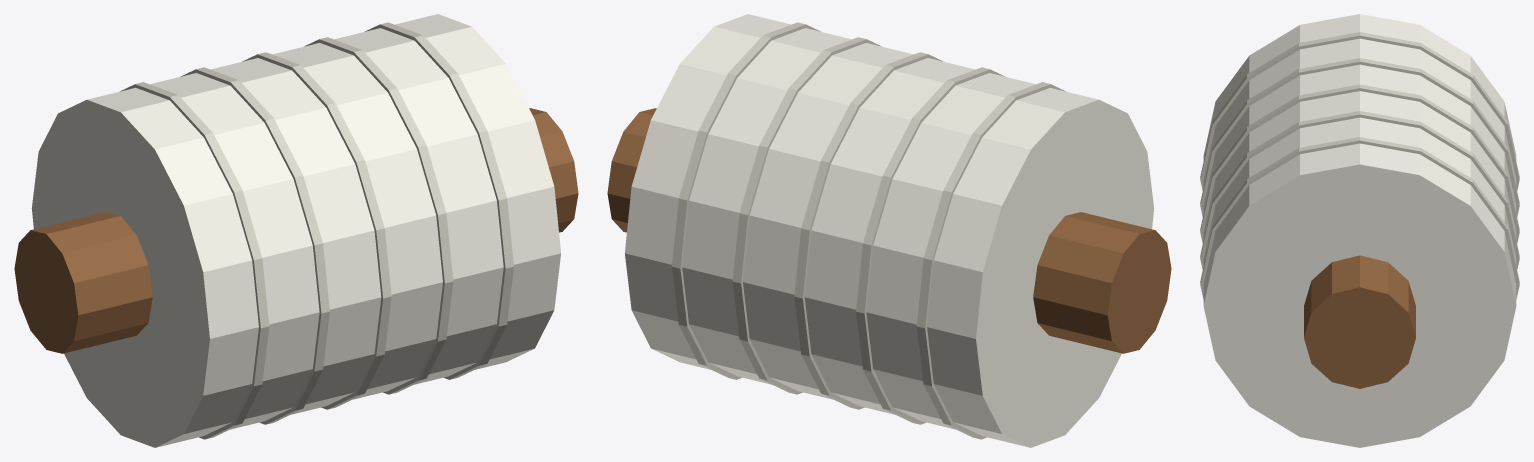
File: FTF_Product_CottonThreadSpool_Drop.glb
3 views of the same model, side by side, from view 1: azimuth 30°, elevation 25°; view 2: azimuth 150°, elevation 25°; view 3: azimuth 270°, elevation 25° (orthographic). The views are drawn at different scales.
Visible parts, largest first — view 1: CottonThreadSpool_Mesh; view 2: CottonThreadSpool_Mesh; view 3: CottonThreadSpool_Mesh.
Part boxes in pixels (bbox=[...]): CottonThreadSpool_Mesh: bbox=[14, 14, 578, 447]; CottonThreadSpool_Mesh: bbox=[607, 14, 1171, 447]; CottonThreadSpool_Mesh: bbox=[1200, 14, 1519, 447].
Bounding box in the file's own units: 0.47 × 0.296 × 0.296.
